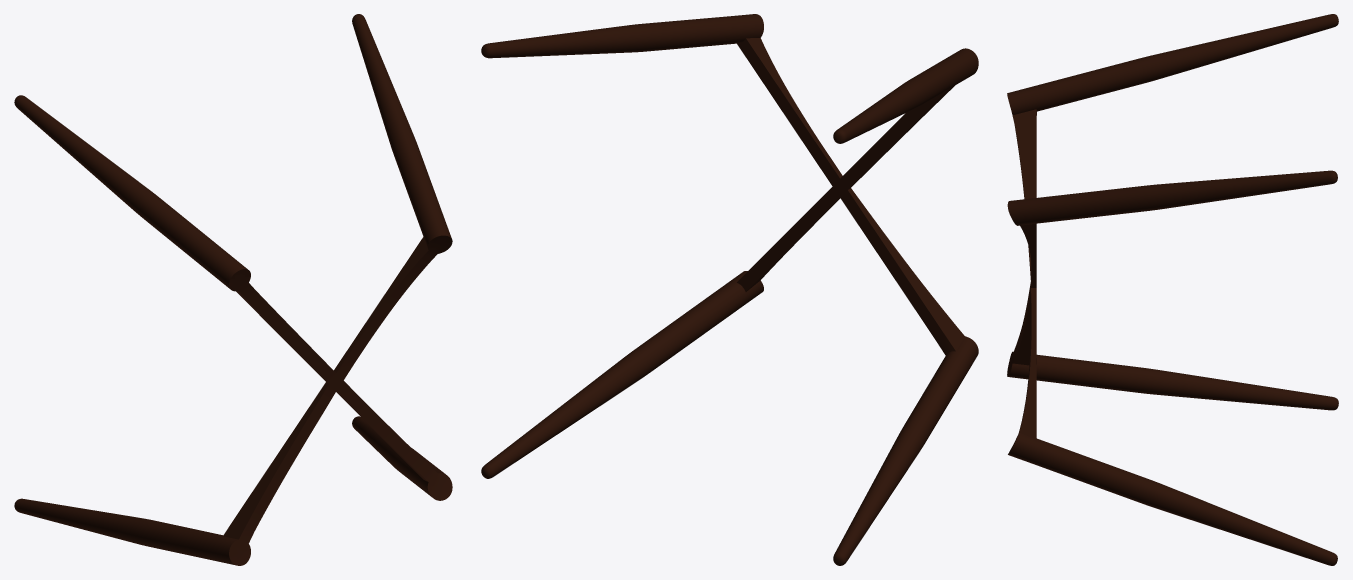
File: chair_legs.obj
The picture shows the model from 3 angles, left to right: view 1: azimuth 30°, elevation 25°; view 2: azimuth 150°, elevation 25°; view 3: azimuth 270°, elevation 25°; orthographic projection. The views are drawn at different scales.
Parts seen in each view (by area): view 1: 3SM_wood; view 2: 3SM_wood; view 3: 3SM_wood.
Boxes of the visible parts, <box> form: 3SM_wood: <box>14,14,452,565</box>; 3SM_wood: <box>481,14,978,565</box>; 3SM_wood: <box>1007,14,1338,565</box>.
Size of the model in its own units: 4.67 by 5.33 by 4.06.
